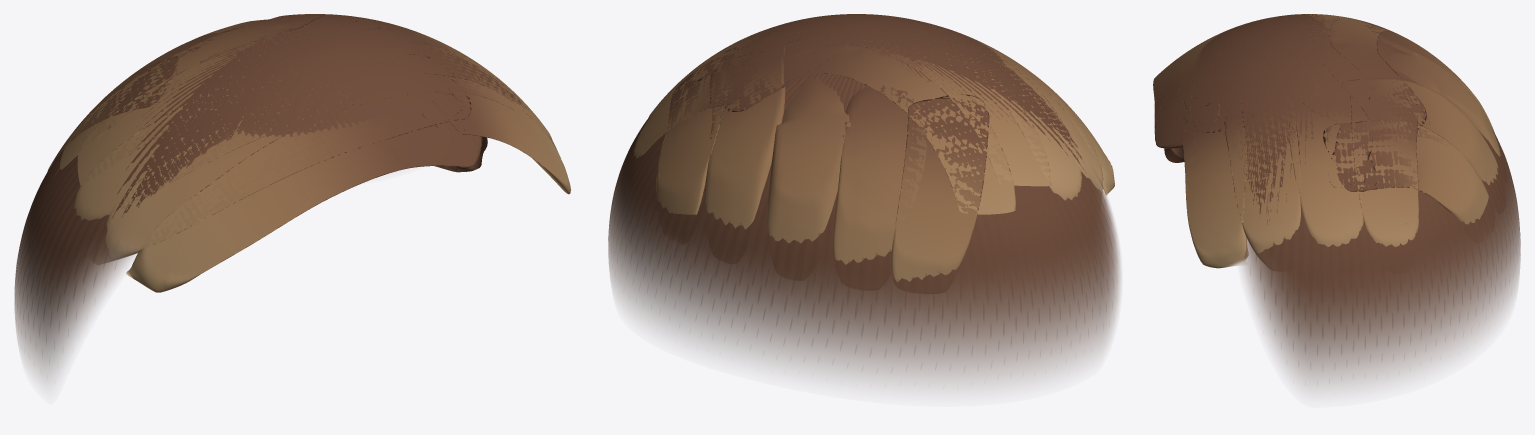
File: Masculine-taper-cap257-hair-ombre.glb
The picture shows the model from 3 angles, left to right: view 1: azimuth 30°, elevation 25°; view 2: azimuth 150°, elevation 25°; view 3: azimuth 270°, elevation 25°; orthographic projection. The views are drawn at different scales.
Visible parts, largest first — view 1: 226 hair / Hair257 / smooth side fade, 226 hair / Hair252 / sculpted locks, 226 hair / Hair252 / gentle tonal variation, 226 hair / Hair257 / directional fade marks; view 2: 226 hair / Hair257 / smooth side fade, 226 hair / Hair252 / sculpted locks, 226 hair / Hair252 / gentle tonal variation, 226 hair / Hair257 / directional fade marks; view 3: 226 hair / Hair257 / smooth side fade, 226 hair / Hair252 / sculpted locks, 226 hair / Hair252 / gentle tonal variation, 226 hair / Hair257 / directional fade marks.
Boxes of the visible parts, x1=… form: 226 hair / Hair257 / smooth side fade: x1=14, y1=20, x2=557, y2=380; 226 hair / Hair252 / sculpted locks: x1=47, y1=14, x2=553, y2=263; 226 hair / Hair252 / gentle tonal variation: x1=105, y1=33, x2=570, y2=292; 226 hair / Hair257 / directional fade marks: x1=16, y1=105, x2=526, y2=341; 226 hair / Hair257 / smooth side fade: x1=608, y1=14, x2=1120, y2=385; 226 hair / Hair252 / sculpted locks: x1=634, y1=14, x2=1103, y2=282; 226 hair / Hair252 / gentle tonal variation: x1=833, y1=33, x2=1114, y2=264; 226 hair / Hair257 / directional fade marks: x1=620, y1=133, x2=1112, y2=353; 226 hair / Hair257 / smooth side fade: x1=1194, y1=14, x2=1520, y2=388; 226 hair / Hair252 / sculpted locks: x1=1177, y1=14, x2=1500, y2=267; 226 hair / Hair252 / gentle tonal variation: x1=1153, y1=24, x2=1494, y2=268; 226 hair / Hair257 / directional fade marks: x1=1256, y1=140, x2=1517, y2=355.
Size of the model in its own units: 0.9723 by 0.584 by 0.7003.
